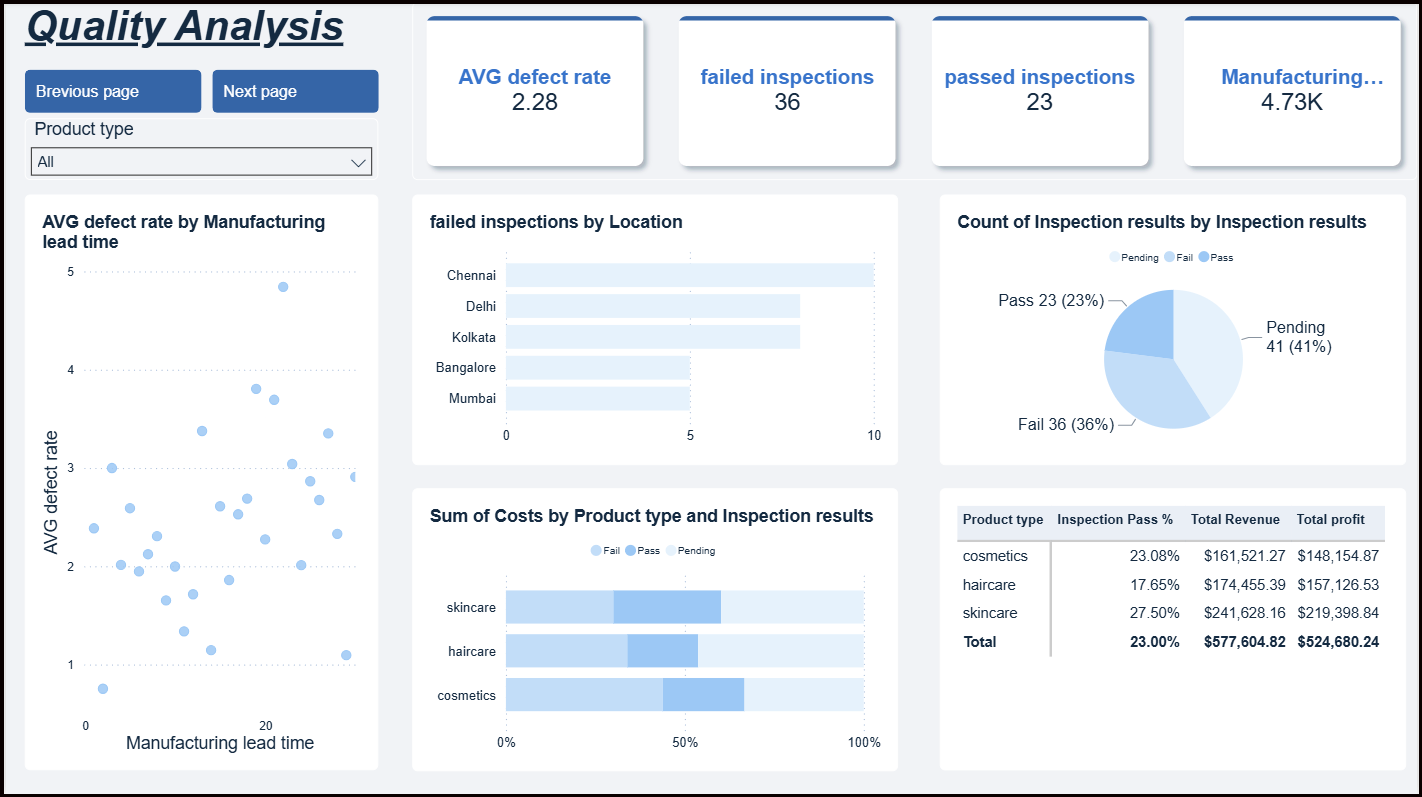

This screenshot's page, from the dashboard's own definition file:
{"tool":"powerbi","page":{"name":"quality","canvas":[1280,720],"ordinal":1},"visuals":[{"type":"cardVisual","fields":{"Data":["Key Measures.AVG defect rate","Key Measures.failed inspections","Key Measures.passed inspections","Sum(supply_chain_data.Manufacturing costs)"]},"box":[368.6,0,911.6,161.6],"z":0},{"type":"pieChart","fields":{"Y":["CountNonNull(supply_chain_data.Inspection results)"],"Category":["supply_chain_data.Inspection results"]},"box":[847.7,174.4,423.3,245.3],"z":1000},{"type":"clusteredBarChart","fields":{"Y":["Key Measures.failed inspections"],"Category":["supply_chain_data.Location"]},"box":[368.6,174.4,440.7,245.3],"z":2000},{"type":"hundredPercentStackedBarChart","fields":{"Y":["Sum(supply_chain_data.Costs)"],"Category":["supply_chain_data.Product type"],"Series":["supply_chain_data.Inspection results"]},"box":[368.6,440.7,440.7,257],"z":3000},{"type":"pivotTable","fields":{"Rows":["supply_chain_data.Product type"],"Values":["Key Measures.Inspection Pass %","Key Measures.Total Revenue","Key Measures.Total profit"]},"box":[847.7,440.7,423,256],"z":4000},{"type":"scatterChart","fields":{"Y":["Key Measures.AVG defect rate"],"X":["supply_chain_data.Manufacturing lead time"]},"box":[17.4,174.4,320.9,522.1],"z":5000},{"type":"textbox","box":[17.4,0,320.9,53.5],"z":6000},{"type":"slicer","fields":{"Values":["supply_chain_data.Product type"]},"box":[17.4,105.8,320.9,55.8],"z":7000},{"type":"actionButton","box":[17.4,61.6,160.5,39.5],"z":8000},{"type":"actionButton","box":[187.2,61.6,151.2,39.5],"z":9000}]}

Visuals, with their boxes in screenshot pixels (x1, y1, x2, y2), scaled from the page's 1280x720 canvas onto the 1422x797 screenshot:
cardVisual - Key Measures.AVG defect rate x Key Measures.failed inspections: (409, 0, 1421, 179)
pieChart - CountNonNull(supply_chain_data.Inspection results) x supply_chain_data.Inspection results: (942, 193, 1412, 465)
clusteredBarChart - Key Measures.failed inspections x supply_chain_data.Location: (409, 193, 899, 465)
hundredPercentStackedBarChart - Sum(supply_chain_data.Costs) x supply_chain_data.Product type: (409, 488, 899, 772)
pivotTable - supply_chain_data.Product type x Key Measures.Inspection Pass %: (942, 488, 1412, 771)
scatterChart - Key Measures.AVG defect rate x supply_chain_data.Manufacturing lead time: (19, 193, 376, 771)
textbox: (19, 0, 376, 59)
slicer - supply_chain_data.Product type: (19, 117, 376, 179)
actionButton: (19, 68, 198, 112)
actionButton: (208, 68, 376, 112)
